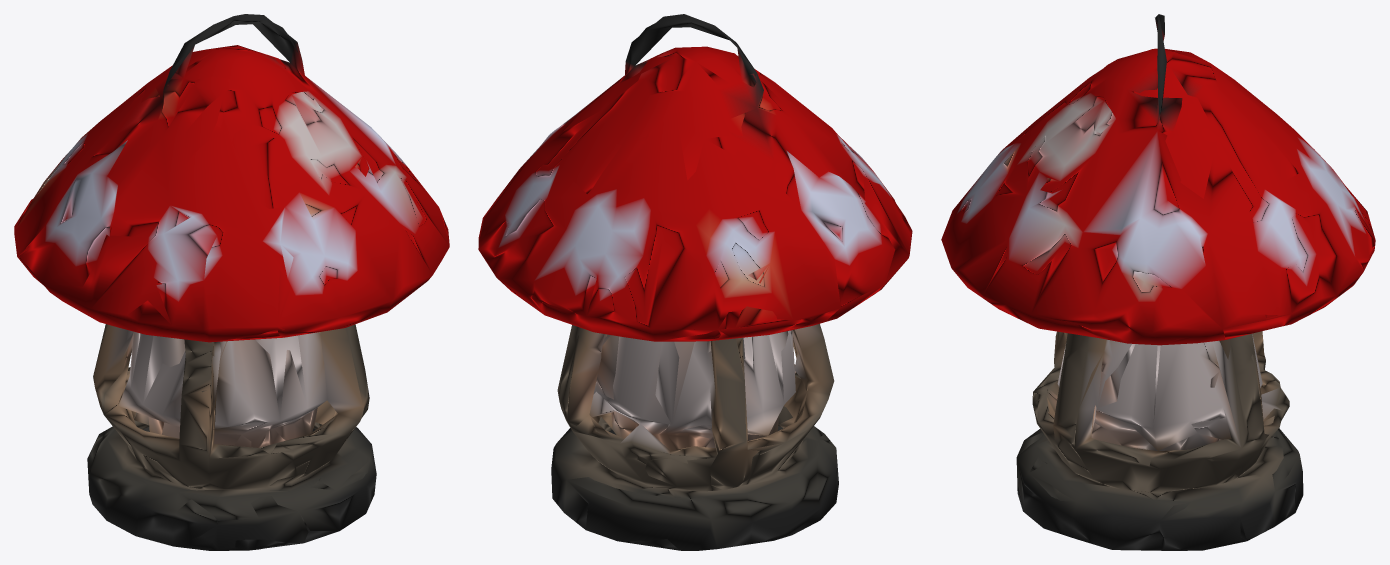
The model's file is gen3d-mushroom-lantern-lod0.glb.
3 views of the same model, side by side, from view 1: azimuth 30°, elevation 25°; view 2: azimuth 150°, elevation 25°; view 3: azimuth 270°, elevation 25° (orthographic).
Visible parts, largest first — view 1: part_0; view 2: part_0; view 3: part_0.
Boxes of the visible parts, left/top/right/bottom form: part_0: left=14, top=14, right=449, bottom=550; part_0: left=478, top=14, right=912, bottom=550; part_0: left=941, top=14, right=1375, bottom=550.
Size of the model in its own units: 0.8333 by 0.9978 by 0.83.
